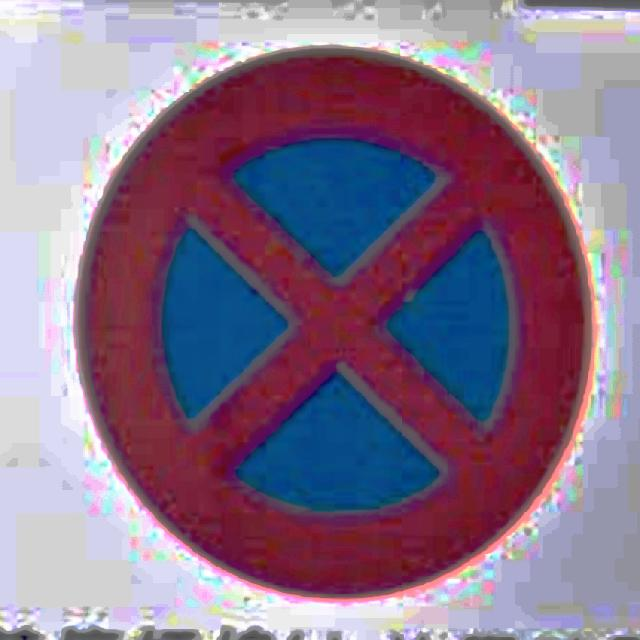nopark: (76, 48, 592, 604)
